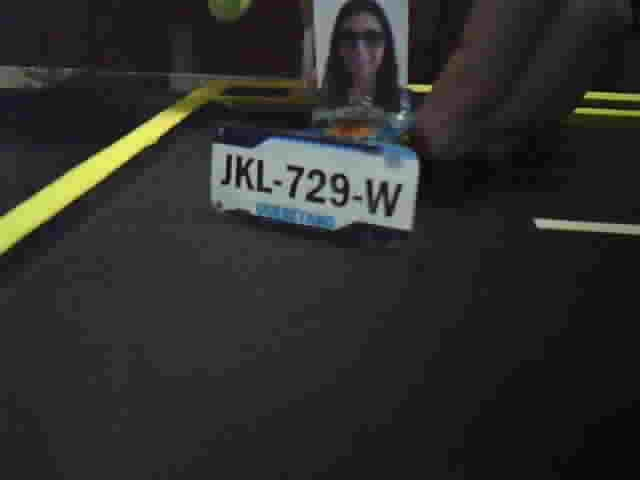PLACA: (207, 124, 423, 248)
ROSTRO: (319, 1, 405, 114)
